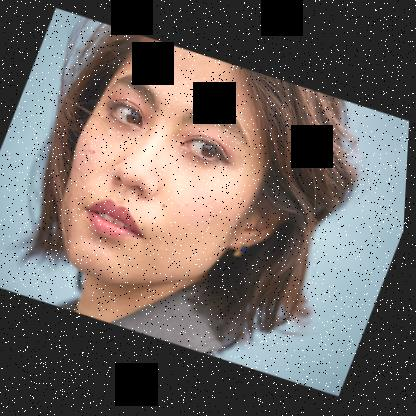Female: (32, 24, 330, 329)
